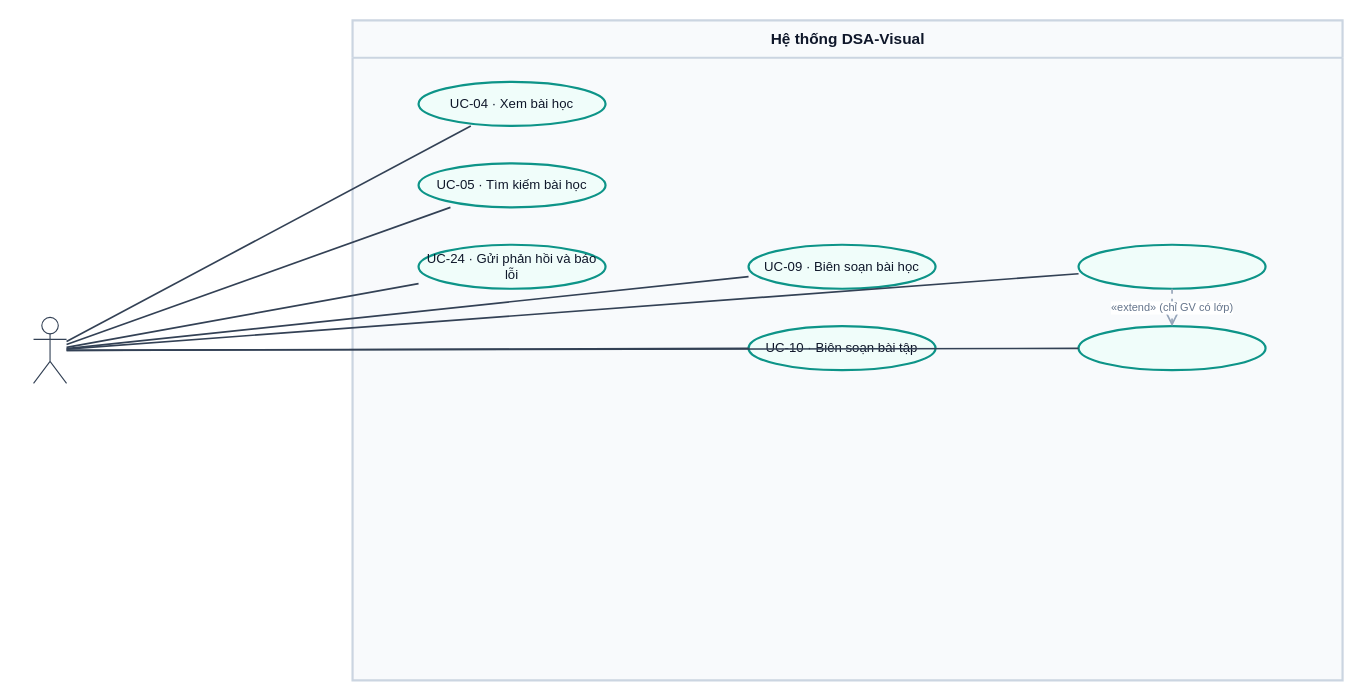
This 1363x700 diagram has some shape labels left out. Here are the shapes that lost their labels. From the top down, the centre of each, then its label:
(x=1171, y=266): UC-11 · Xem báo cáo giảng dạy
(x=49, y=349): Giảng viên
(x=1171, y=347): UC-20 · Quản lý lớp học phần
